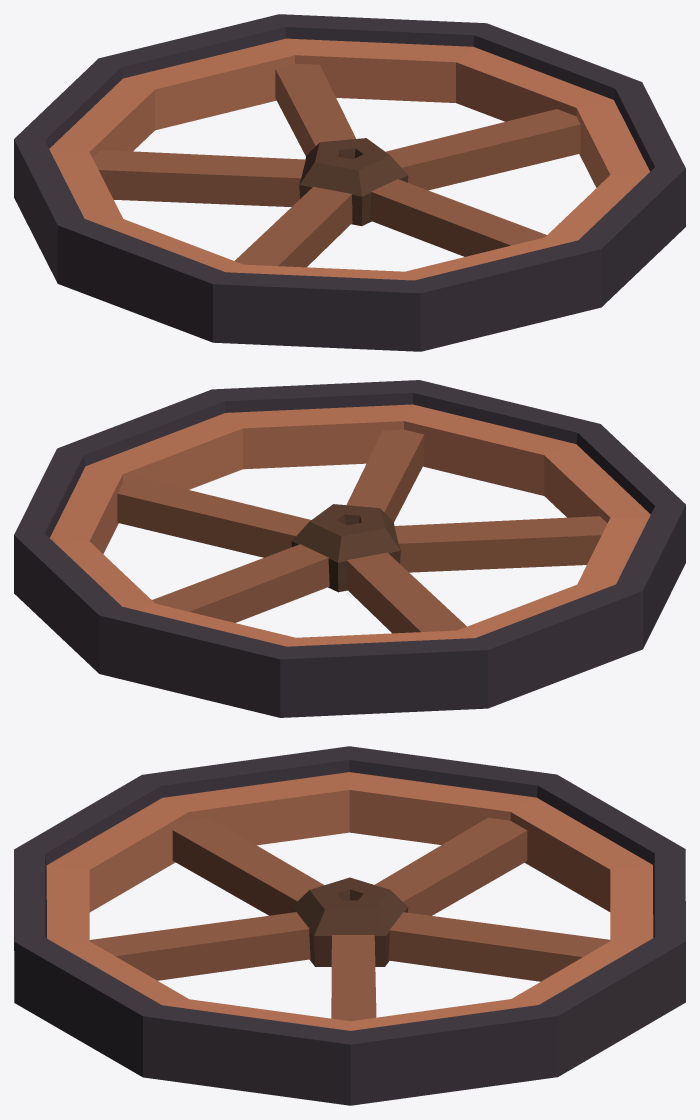
File: Wheel.fbx
The picture shows the model from 3 angles, top to bottom: view 1: azimuth 30°, elevation 25°; view 2: azimuth 150°, elevation 25°; view 3: azimuth 270°, elevation 25°; orthographic projection. The views are drawn at different scales.
Parts seen in each view (by area): view 1: Wheel; view 2: Wheel; view 3: Wheel.
Boxes of the visible parts, x1=… form: Wheel: x1=14, y1=14, x2=685, y2=351; Wheel: x1=14, y1=380, x2=685, y2=717; Wheel: x1=14, y1=746, x2=685, y2=1105.
Size of the model in its own units: 0.9483 by 0.0924 by 0.9024.
